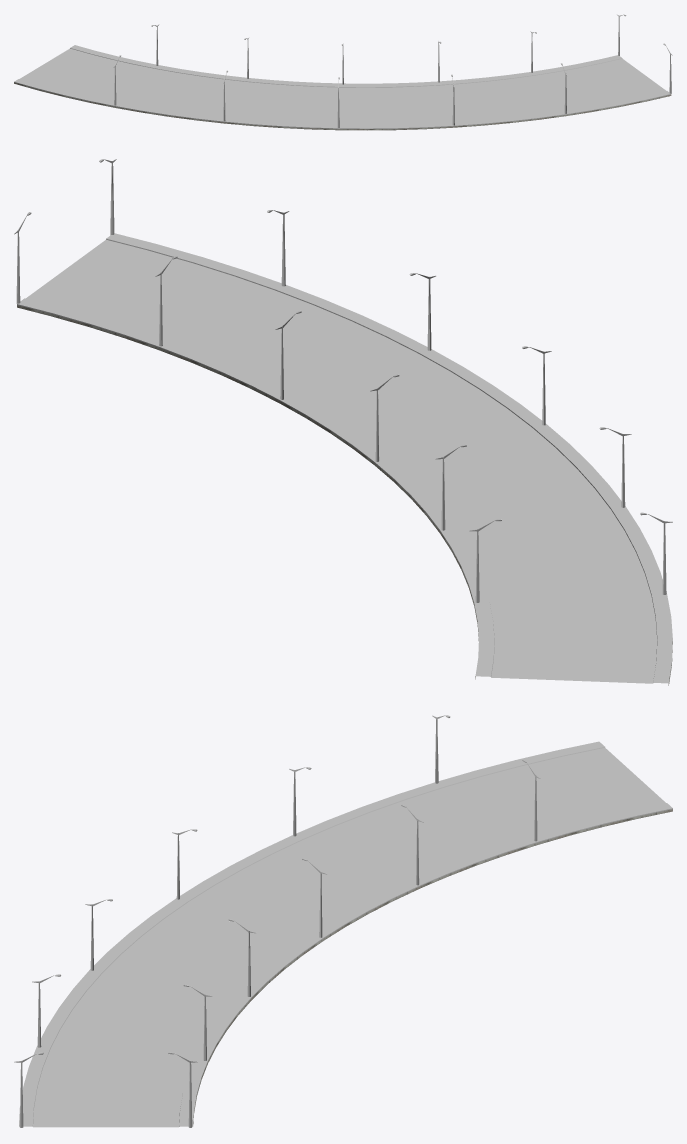
The model's file is Big_Road_65.FBX.
The picture shows the model from 3 angles, top to bottom: view 1: azimuth 30°, elevation 25°; view 2: azimuth 150°, elevation 25°; view 3: azimuth 270°, elevation 25°; orthographic projection. The views are drawn at different scales.
Visible parts, largest first — view 1: Big_Road_65, city_light012; view 2: Big_Road_65, city_light012; view 3: Big_Road_65, city_light012.
Boxes of the visible parts, bbox=[...] form: Big_Road_65: bbox=[14, 45, 671, 130]; city_light012: bbox=[113, 14, 672, 127]; Big_Road_65: bbox=[17, 233, 672, 685]; city_light012: bbox=[14, 159, 672, 602]; Big_Road_65: bbox=[19, 741, 672, 1127]; city_light012: bbox=[14, 715, 540, 1127].
Size of the model in its own units: 11870 by 1104 by 8569.
